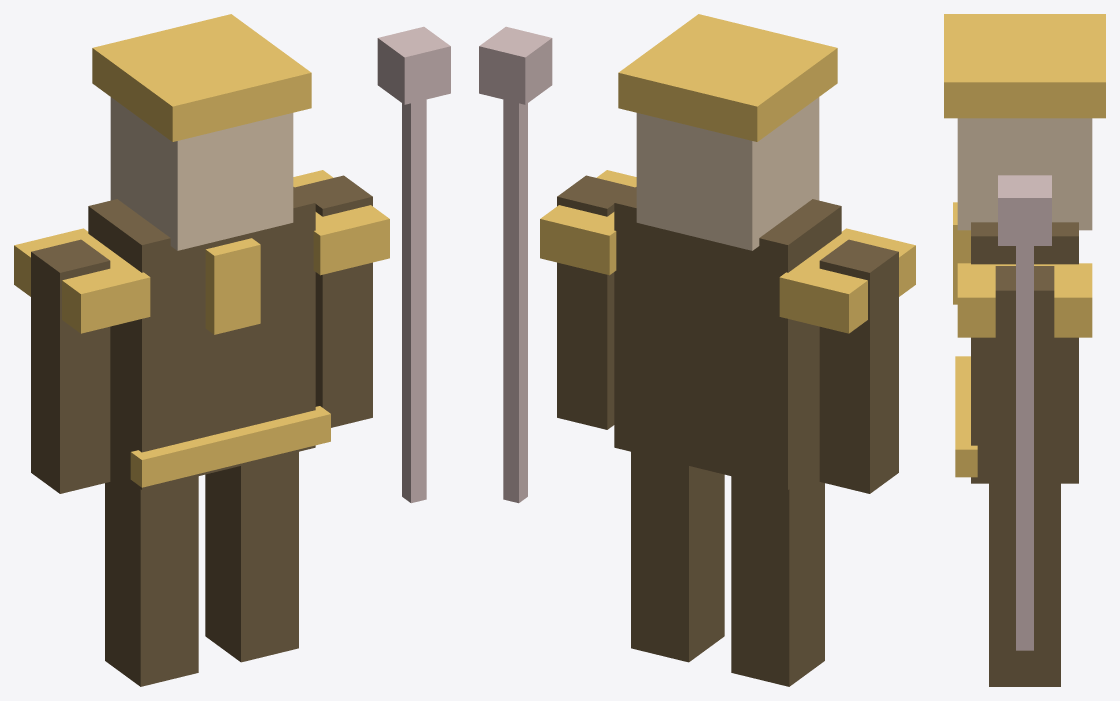
The model's file is 18_isolde_stormhush_marshal_under.glb.
The picture shows the model from 3 angles, left to right: view 1: azimuth 30°, elevation 25°; view 2: azimuth 150°, elevation 25°; view 3: azimuth 270°, elevation 25°; orthographic projection.
Visible parts, largest first — view 1: Isolde Stormhush, Marshal under; view 2: Isolde Stormhush, Marshal under; view 3: Isolde Stormhush, Marshal under.
Part boxes in pixels (<box>): Isolde Stormhush, Marshal under: <box>14,14,450,686</box>; Isolde Stormhush, Marshal under: <box>479,14,915,686</box>; Isolde Stormhush, Marshal under: <box>944,14,1105,686</box>.
Bounding box in the file's own units: 1.12 × 1.62 × 0.3957.
